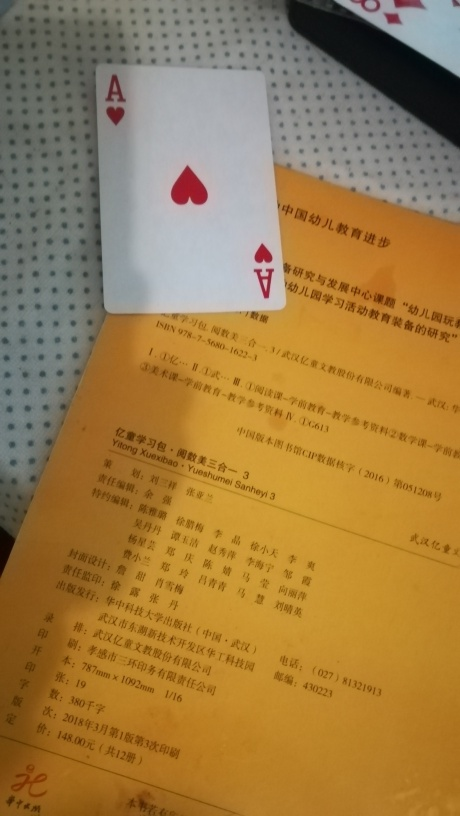hx a: (92, 63, 289, 313)
